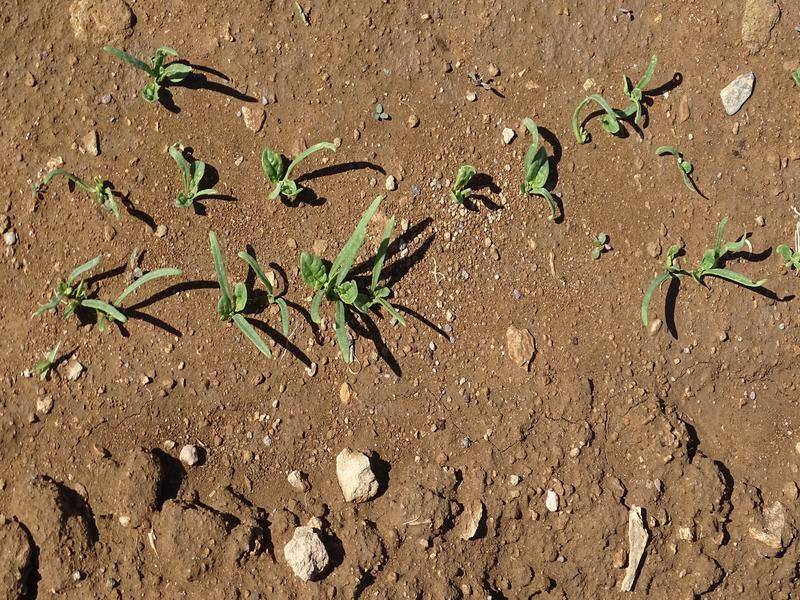Espinaca: (27, 211, 416, 359), (451, 59, 656, 234), (642, 234, 766, 338), (40, 151, 120, 218), (252, 144, 330, 209), (109, 39, 181, 101), (167, 140, 213, 205)
